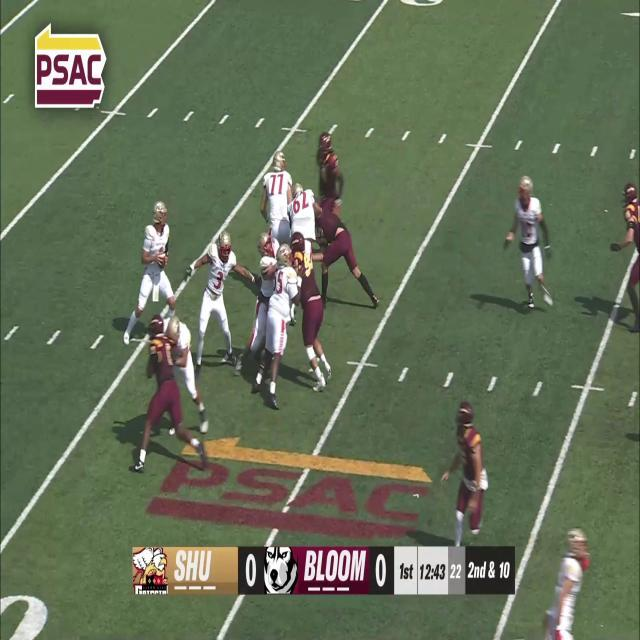football: (157, 250, 166, 268)
